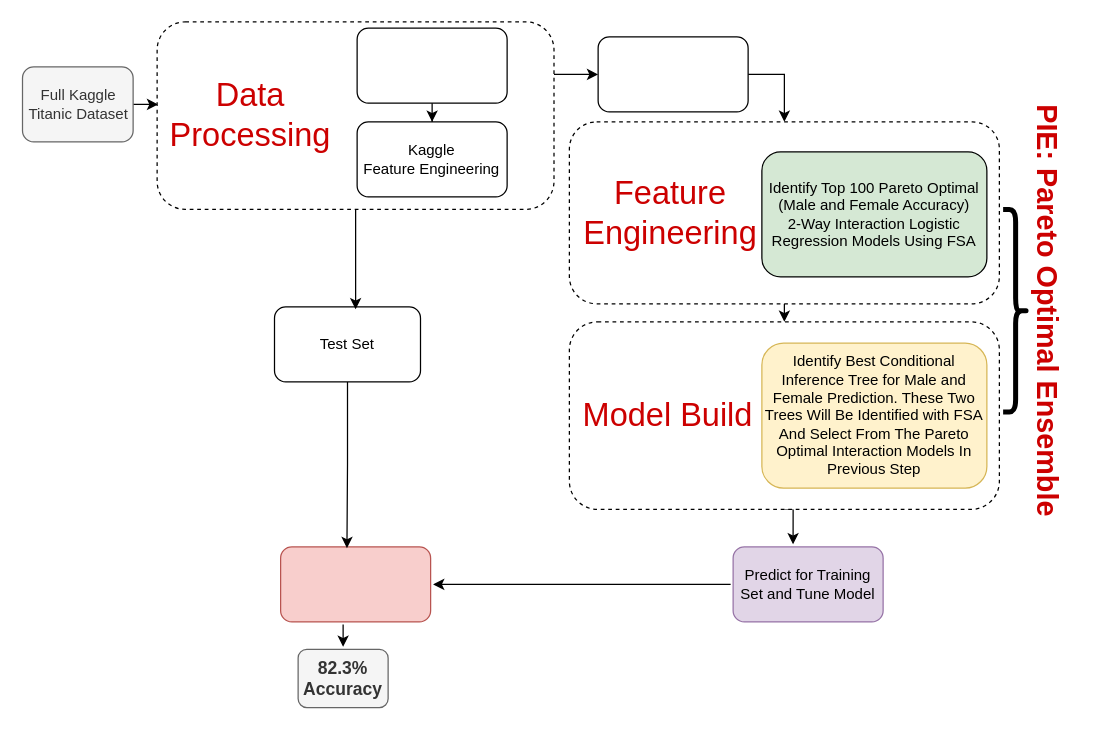
The diagram is 1095 pixels wide and 730 high, and some of its shapes have lost their labels. Each missing label, with the box of its shape:
Data Cleaning & Organization: (356, 27, 507, 103)
Training Set: (597, 36, 748, 112)
Use Final Tuned PIE Model on Test Set. Submit to Kaggle: (279, 546, 431, 622)
